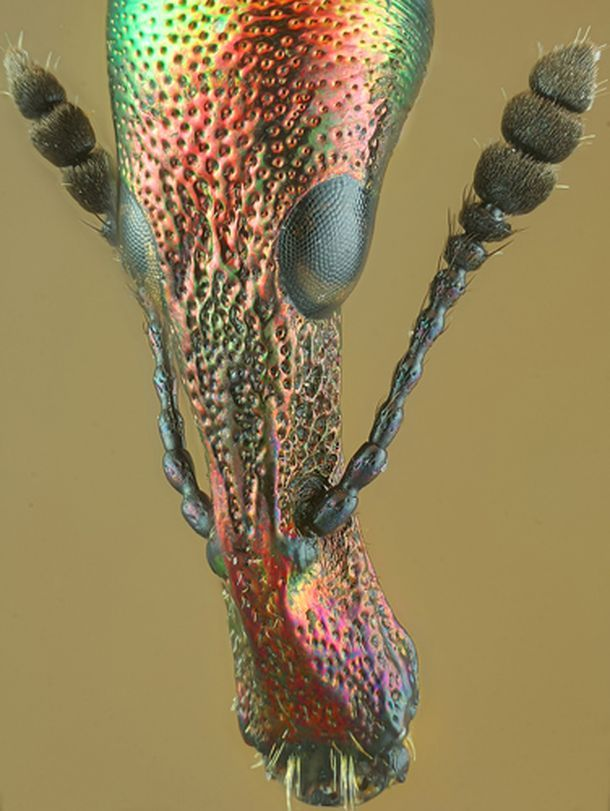dolgonosik: (5, 2, 610, 811)
